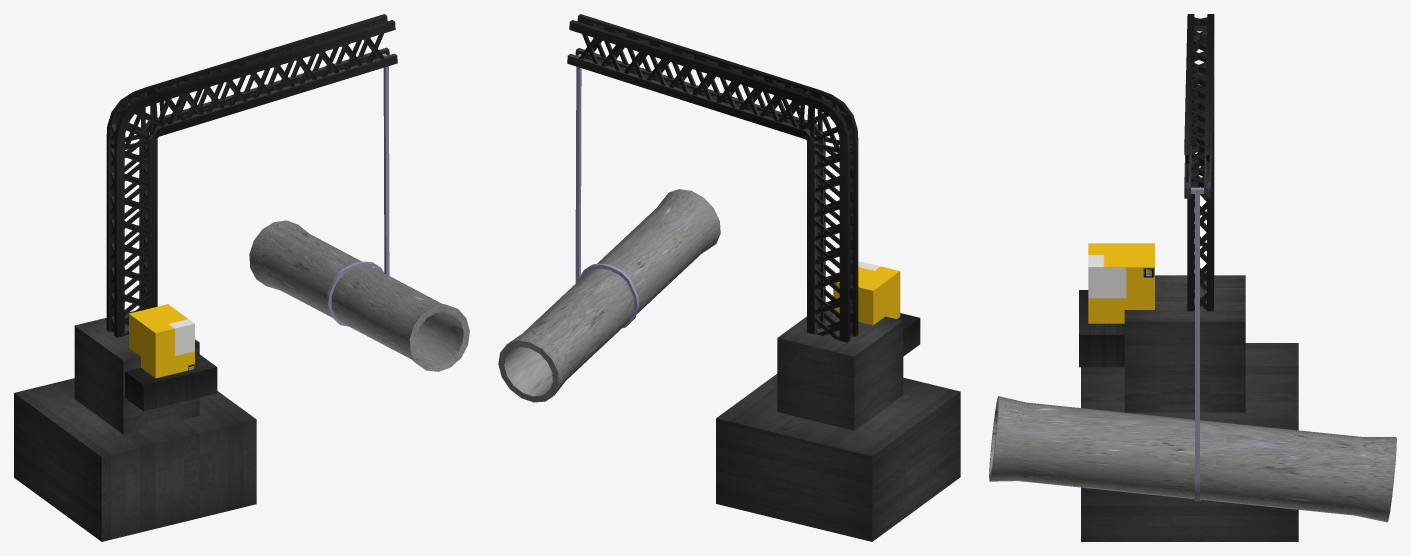
The model's file is Crane.fbx.
The picture shows the model from 3 angles, left to right: view 1: azimuth 30°, elevation 25°; view 2: azimuth 150°, elevation 25°; view 3: azimuth 270°, elevation 25°; orthographic projection. The views are drawn at different scales.
Visible parts, largest first — view 1: crane2; view 2: crane2; view 3: crane2.
Part boxes in pixels (box(x1,y1,x2,y2)): crane2: box(14, 14, 469, 541); crane2: box(498, 14, 960, 541); crane2: box(989, 14, 1396, 541).
Size of the model in its own units: 53.86 by 62.17 by 45.37.
